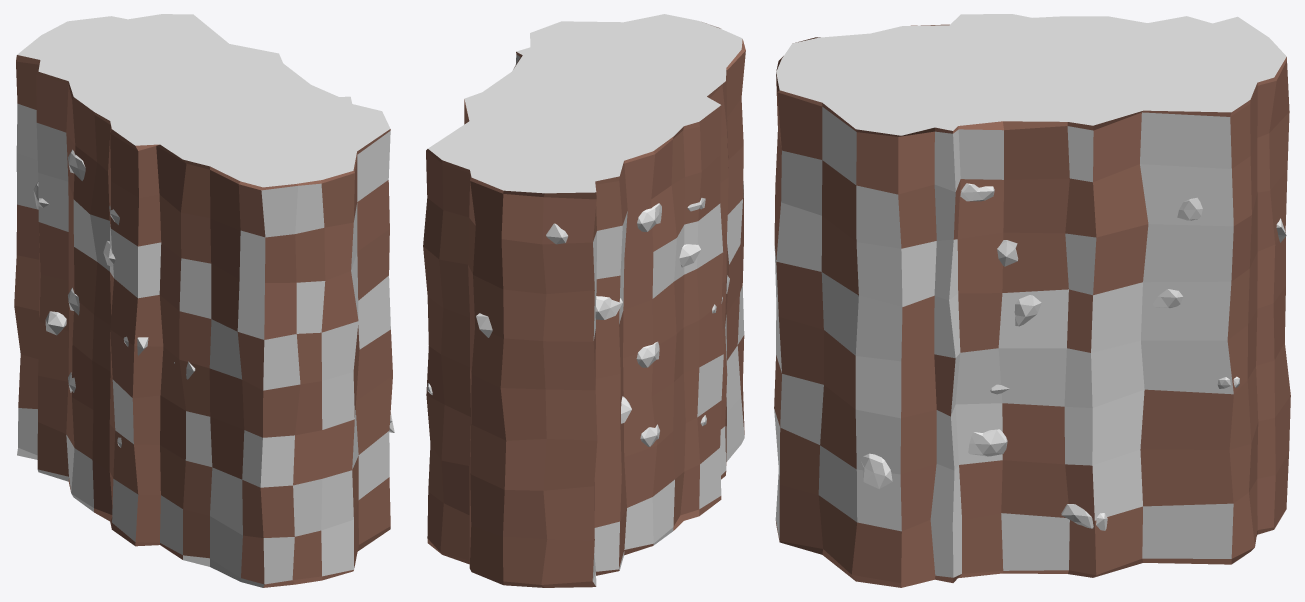
File: DirtAndIron.fbx
3 renders of one model, left to right at view 1: azimuth 30°, elevation 25°; view 2: azimuth 150°, elevation 25°; view 3: azimuth 270°, elevation 25°, orthographic. The views are drawn at different scales.
Visible parts, largest first — view 1: Plan; view 2: Plan; view 3: Plan.
Boxes of the visible parts, x1=… form: Plan: x1=14, y1=14, x2=394, y2=587; Plan: x1=423, y1=14, x2=745, y2=587; Plan: x1=774, y1=14, x2=1290, y2=587.
Bounding box in the file's own units: 1000 × 1704 × 1764.
